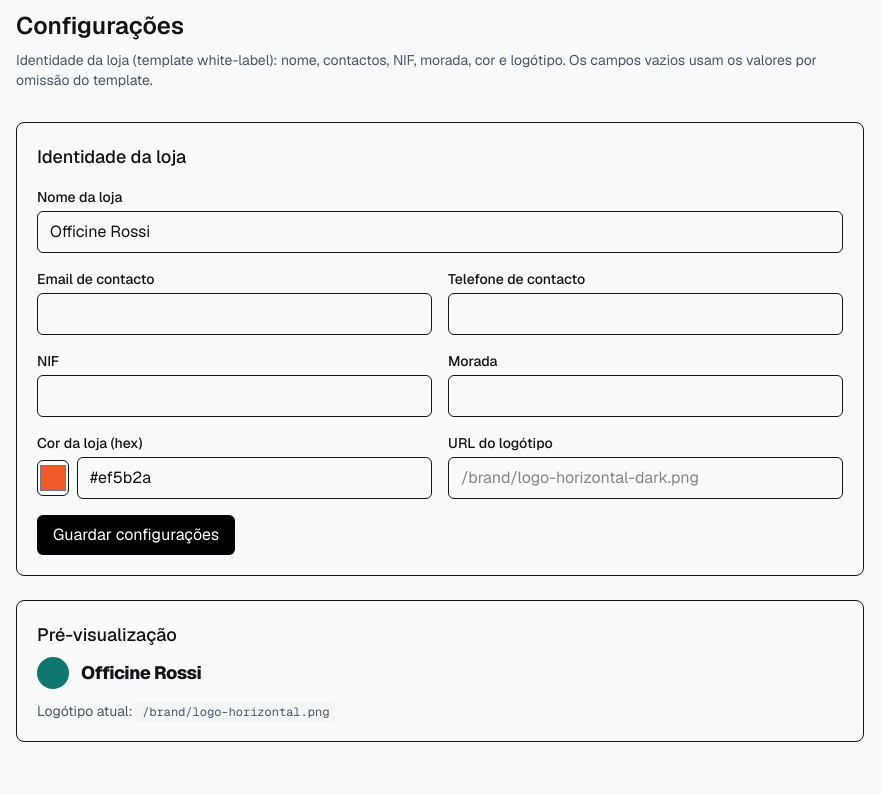
Test: admin settings page (white-label) › grava identidade via PATCH e mostra mensagem de êxito
The width and height of the screenshot is (881, 795).
In the field labelled "NIF": [234, 396] box x1=37 y1=375 x2=432 y2=417, type "PT501234567"
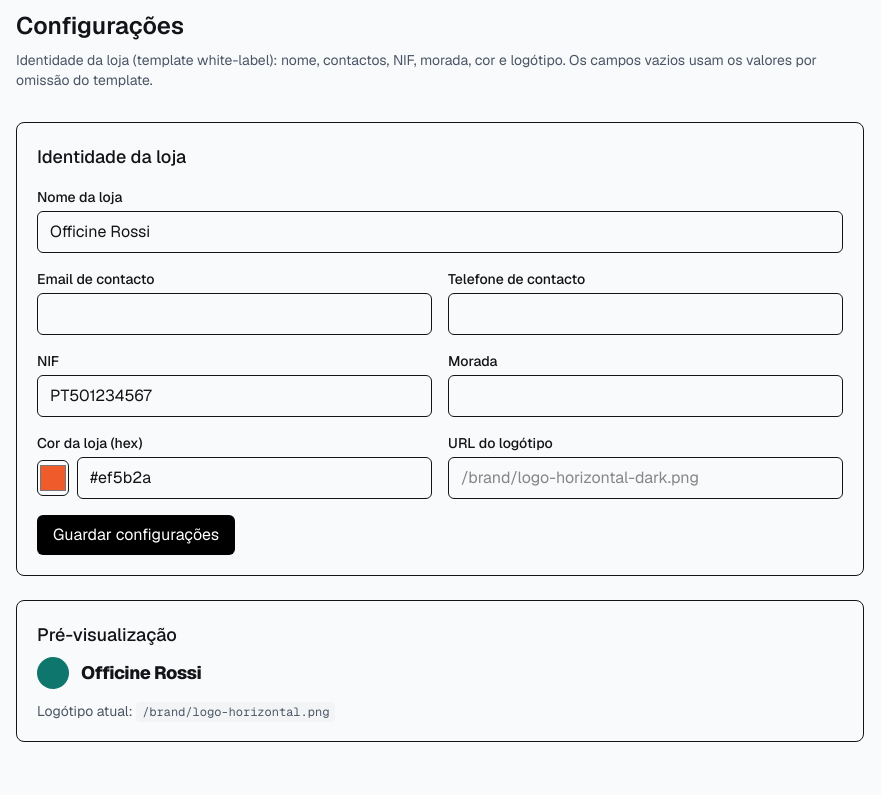
Click the button "Guardar configurações": [136, 535] box x1=37 y1=515 x2=235 y2=555
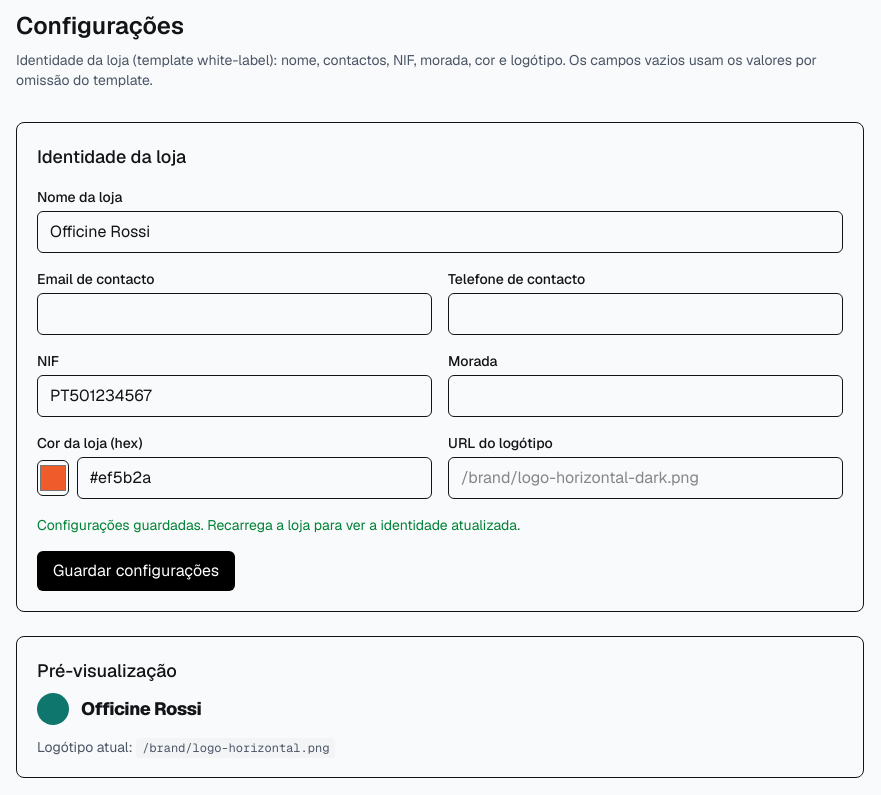
Expected: the message shows "Configurações guardadas", x1=37 y1=516 x2=520 y2=534
